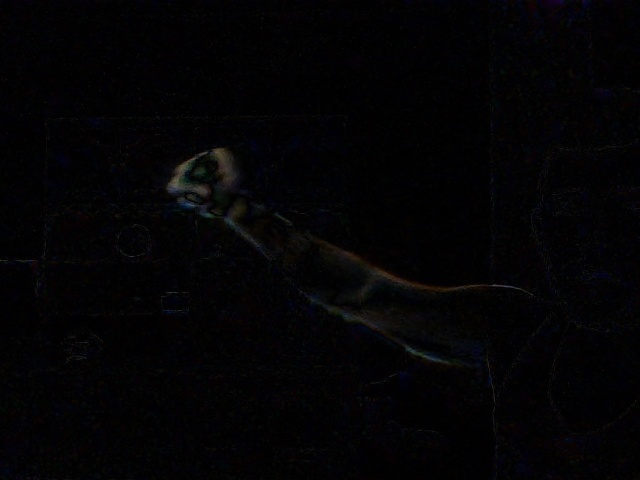hand_fi: (154, 140, 247, 218)
